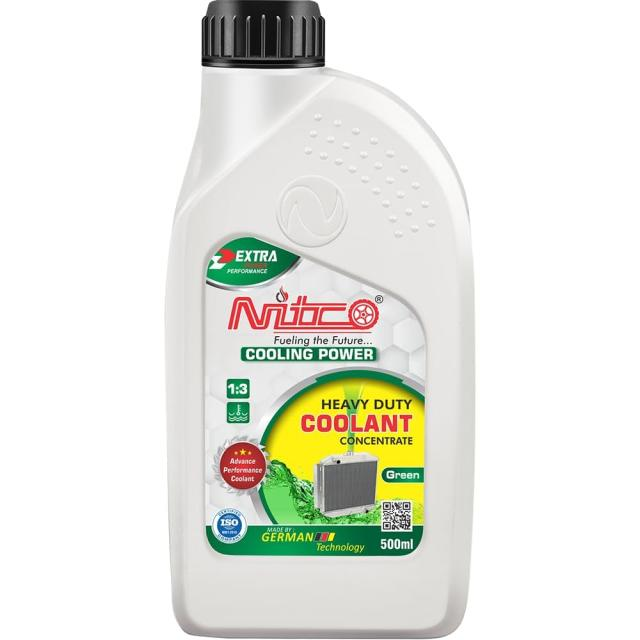coolant: (160, 2, 481, 640)
